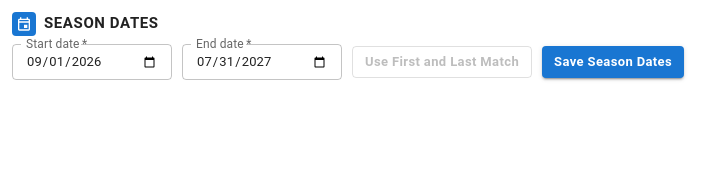
Scenario: LeagueSeasonDatesBlock (docs/specs/111) › shows a 400 message verbatim
Expected: the date field labelled "Start date *" holds "2026-09-01", [12,46,172,78]
Click the button "Save Season Dates": (613, 62) [542,46,684,78]
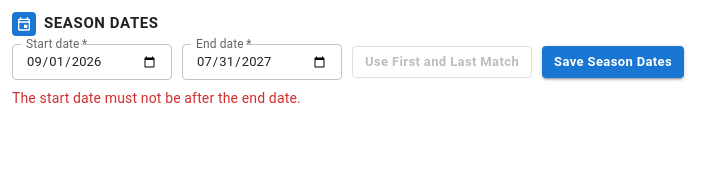
Result: the message reads "The start date must not be after the end date." at [12,90,301,106]
